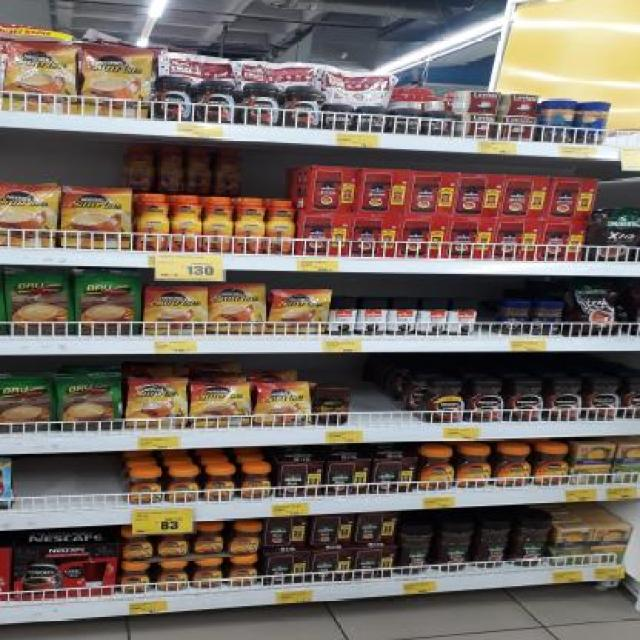Coffee: (79, 44, 153, 116), (8, 42, 75, 113), (64, 186, 130, 251), (0, 185, 54, 247), (127, 378, 188, 427), (146, 287, 205, 333), (209, 286, 265, 332), (191, 381, 249, 425), (270, 290, 326, 333), (255, 382, 311, 424), (134, 193, 169, 252), (421, 378, 464, 422), (156, 74, 196, 120), (242, 82, 280, 127), (200, 78, 237, 124), (172, 195, 200, 253), (203, 196, 232, 252), (235, 198, 263, 254), (266, 198, 294, 254), (285, 86, 321, 128), (470, 378, 504, 422), (508, 378, 543, 420), (494, 446, 530, 486), (547, 378, 581, 420), (419, 446, 453, 488), (586, 378, 620, 419), (459, 447, 492, 488), (126, 468, 162, 504), (536, 446, 566, 486), (118, 528, 153, 560), (168, 467, 198, 502), (240, 466, 271, 499), (203, 468, 234, 500), (228, 556, 260, 587), (118, 562, 150, 592), (391, 108, 426, 135), (158, 526, 188, 556), (231, 523, 260, 554), (156, 562, 186, 590), (193, 560, 222, 588), (195, 524, 222, 554), (326, 102, 354, 130), (358, 106, 388, 132), (424, 110, 453, 136)
